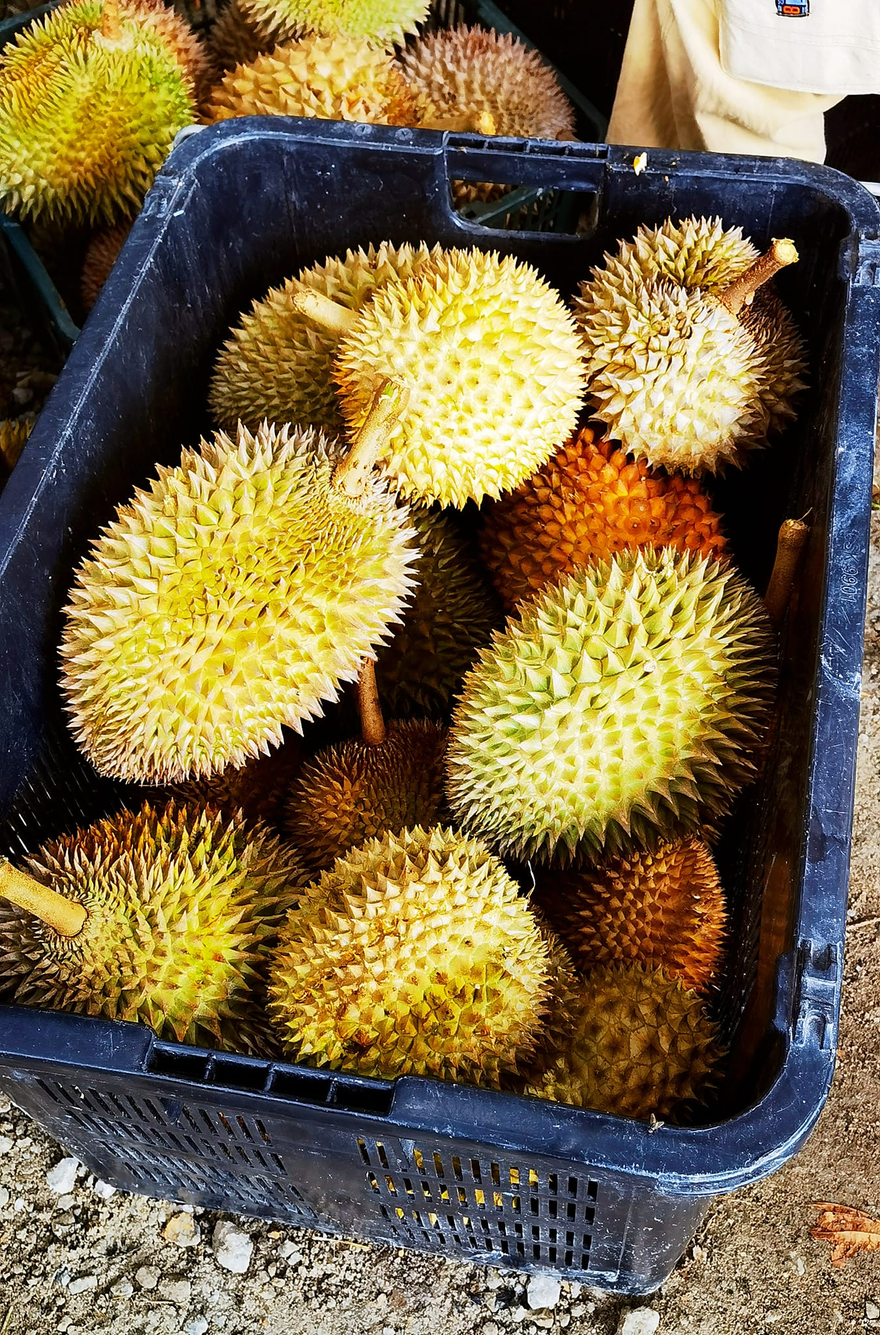bulk_waste: (0, 121, 879, 1293)
normal_waste: (61, 422, 418, 783), (447, 548, 776, 866), (0, 802, 304, 1051), (270, 827, 550, 1084), (334, 250, 585, 506), (575, 216, 805, 473)
